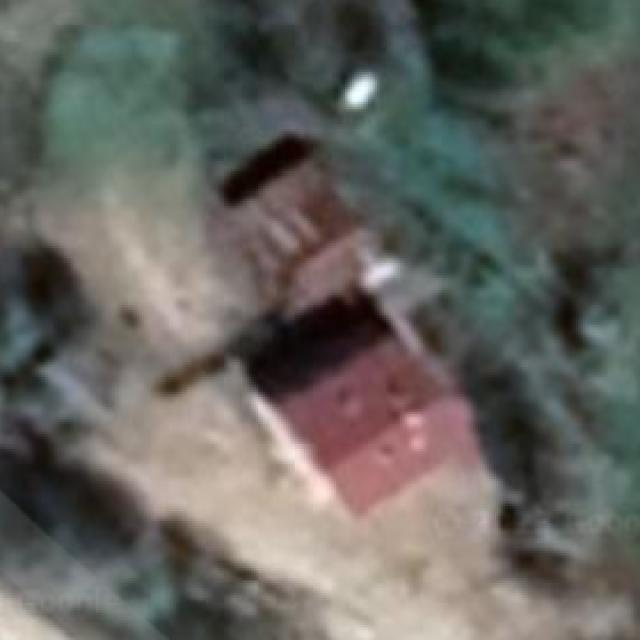Batiment: (225, 144, 476, 515)
